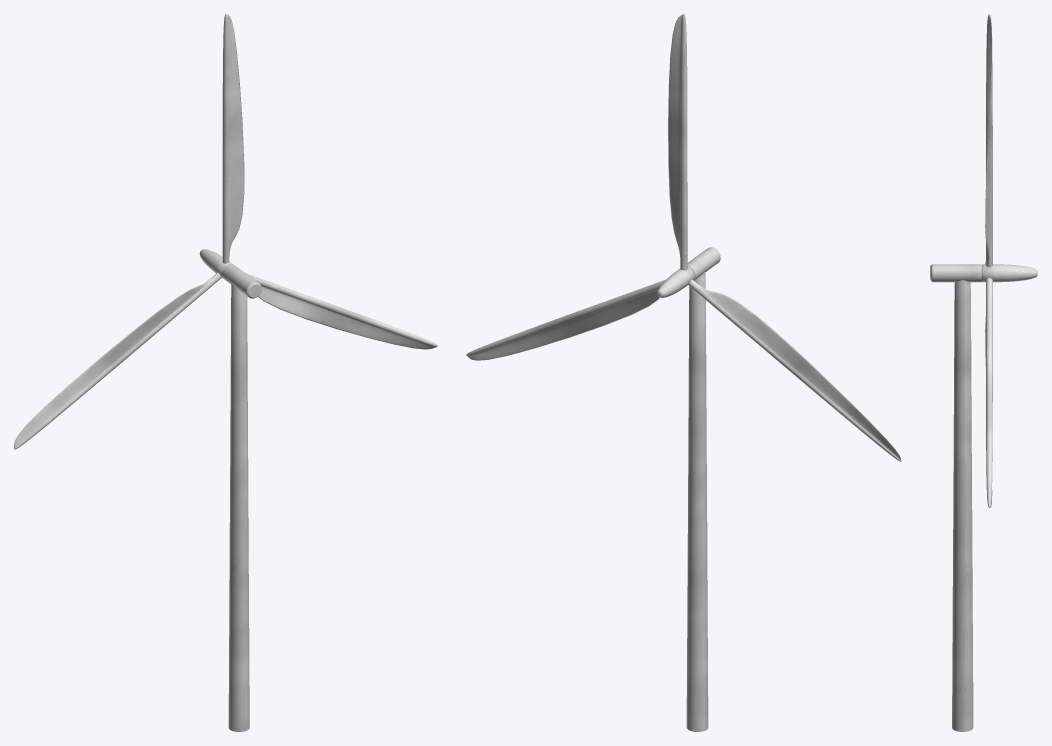
The model's file is turbine.glb.
3 renders of one model, left to right at view 1: azimuth 30°, elevation 25°; view 2: azimuth 150°, elevation 25°; view 3: azimuth 270°, elevation 25°, orthographic. The views are drawn at different scales.
Visible parts, largest first — view 1: Tower_Wind Turbine_0; view 2: Tower_Wind Turbine_0; view 3: Tower_Wind Turbine_0.
Boxes of the visible parts, <box> form: Tower_Wind Turbine_0: <box>14,14,437,731</box>; Tower_Wind Turbine_0: <box>466,14,901,731</box>; Tower_Wind Turbine_0: <box>930,14,1037,731</box>.
Bounding box in the file's own units: 69.25 × 110 × 14.95.
1 material, 1 textured.
